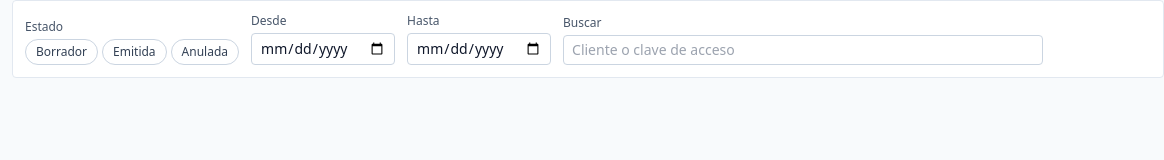
Scenario: <FiltersBar /> URL state › typing in q sets ?q=
In the search field with test id "filter-q": (803, 50) [563,35,1043,65], type "ACME"
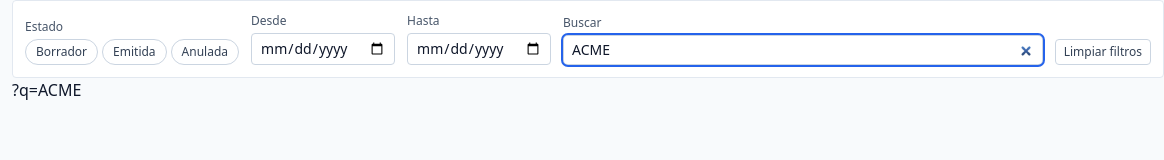
Check: the text with test id "loc" shows "q=ACME", box [12,79,81,101]
